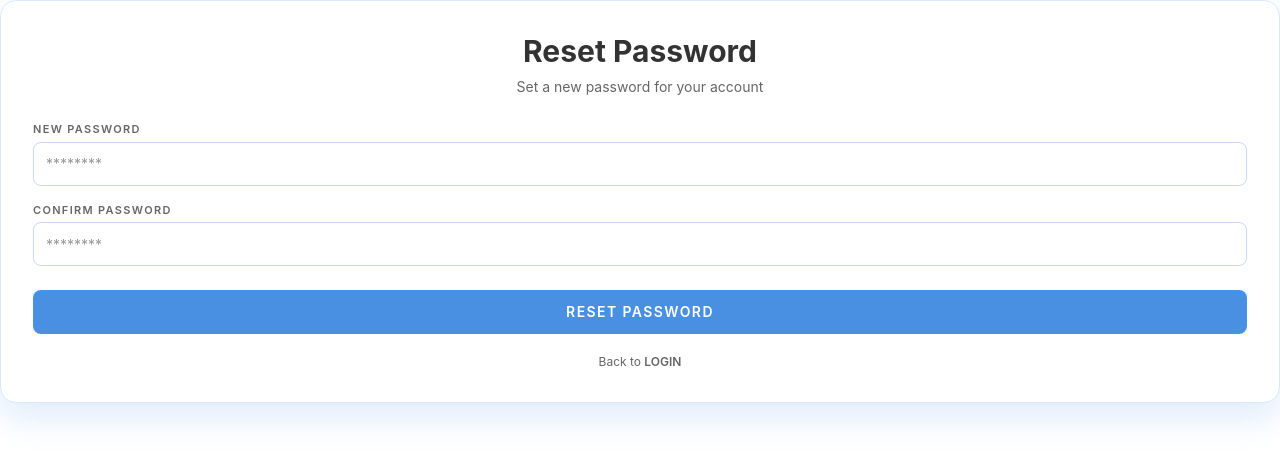
Test case: ResetPasswordForm › shows error when token is missing
The width and height of the screenshot is (1280, 475).
Type "newpass" into the 1st password field with placeholder "********". click: (640, 164)
box: left=33, top=142, right=1247, bottom=186
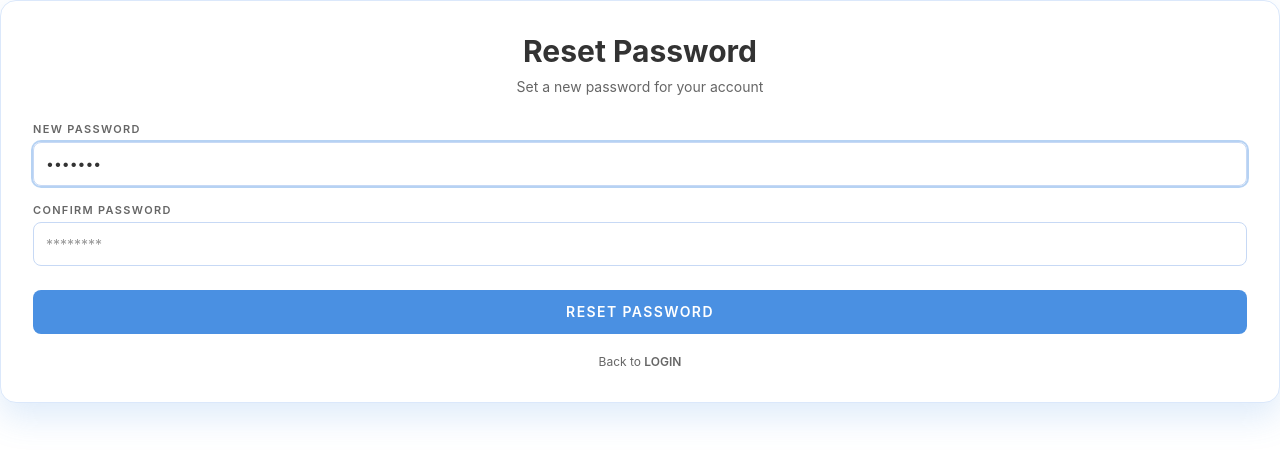
Type "newpass" into the password field with placeholder "********". click: (640, 244)
box: left=33, top=222, right=1247, bottom=266
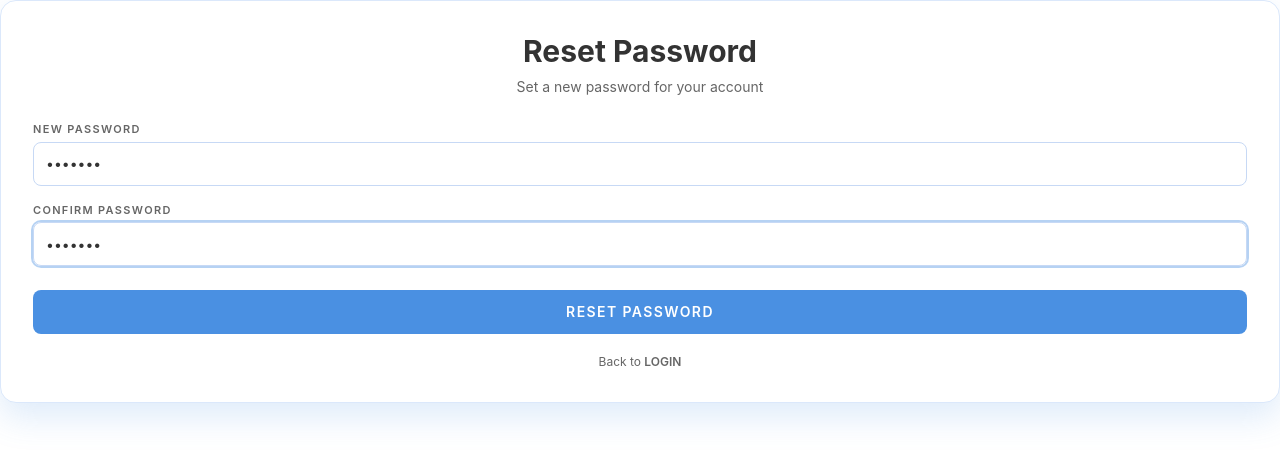
Click the button "Reset Password". click: (640, 312)
box: left=33, top=290, right=1247, bottom=334
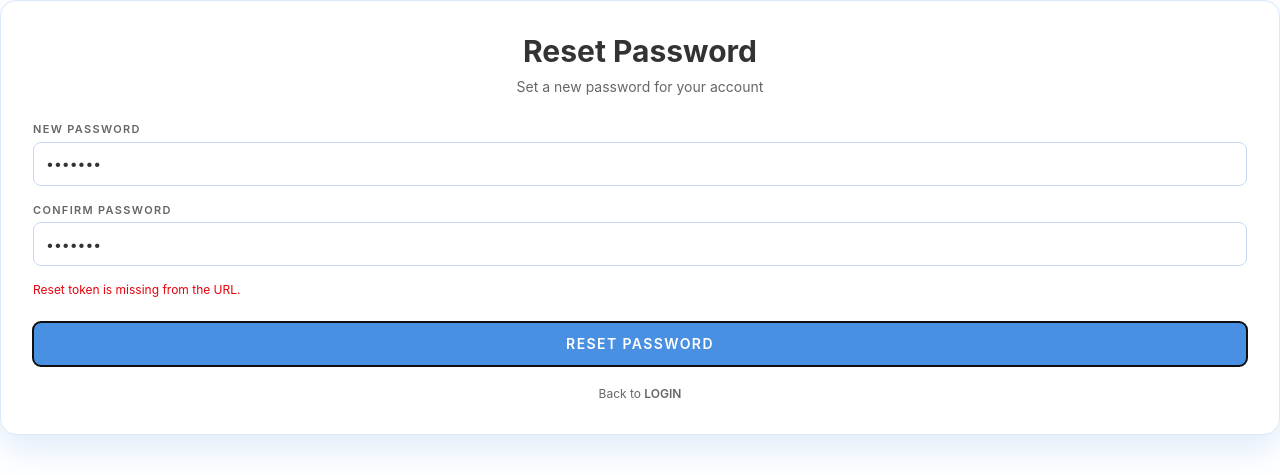
Expected: the text "Reset token is missing from the URL." is shown, left=33, top=282, right=240, bottom=297
